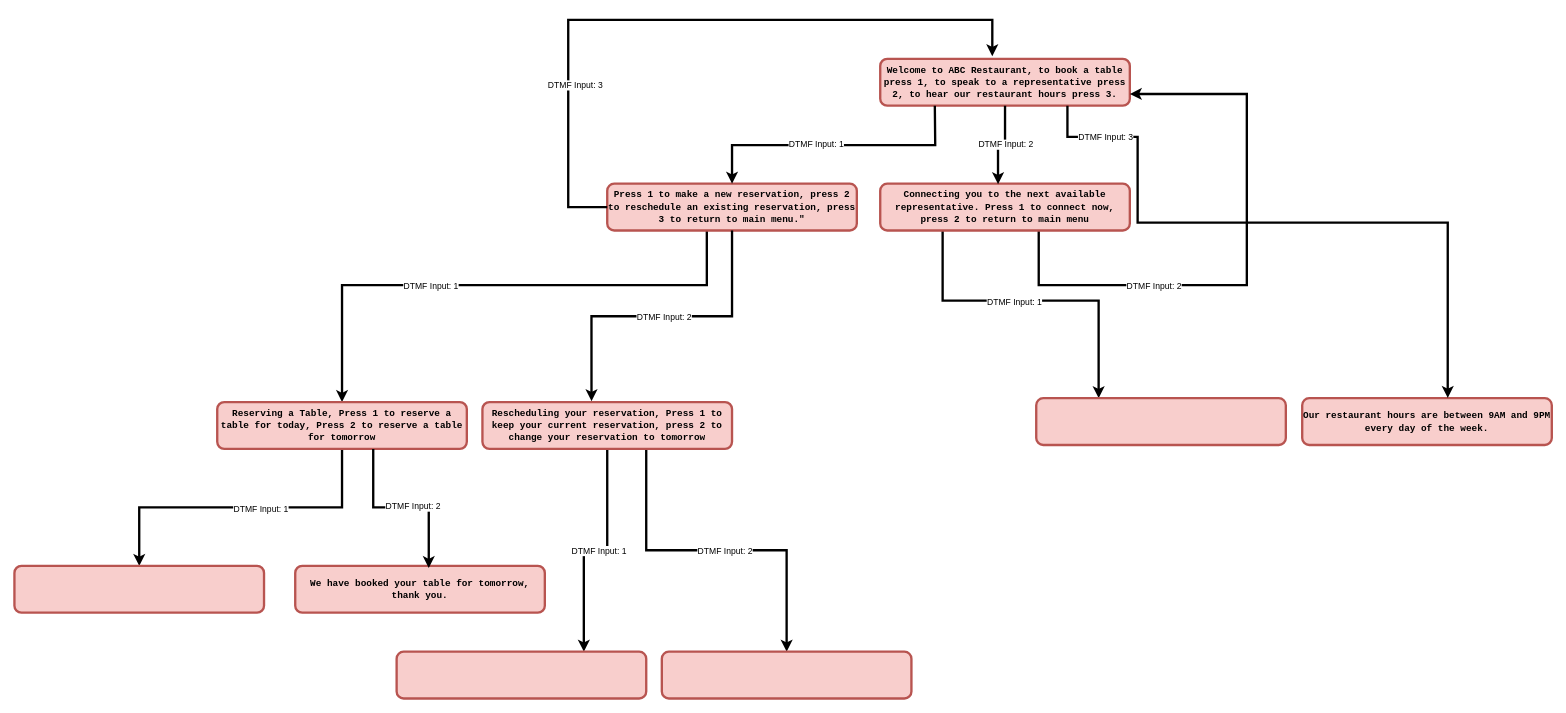
The diagram is 1566 pixels wide and 713 high, and some of its shapes have lost their labels. Here are the shapes that lost their labels. From the top down, the centre of each, then its label:
At (1161,421): "Connect Call to Another Number".
At (139,588): "We have booked your table for today, thank you.".
At (521,674): "Keeping your current reservation, thank you.".
At (786,674): "Changing your reservation to tomorrow, thank you.".
